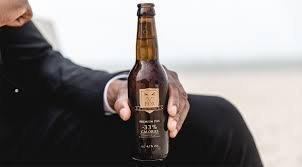beer: (129, 3, 169, 161)
